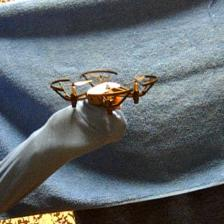drone: (50, 69, 158, 108)
